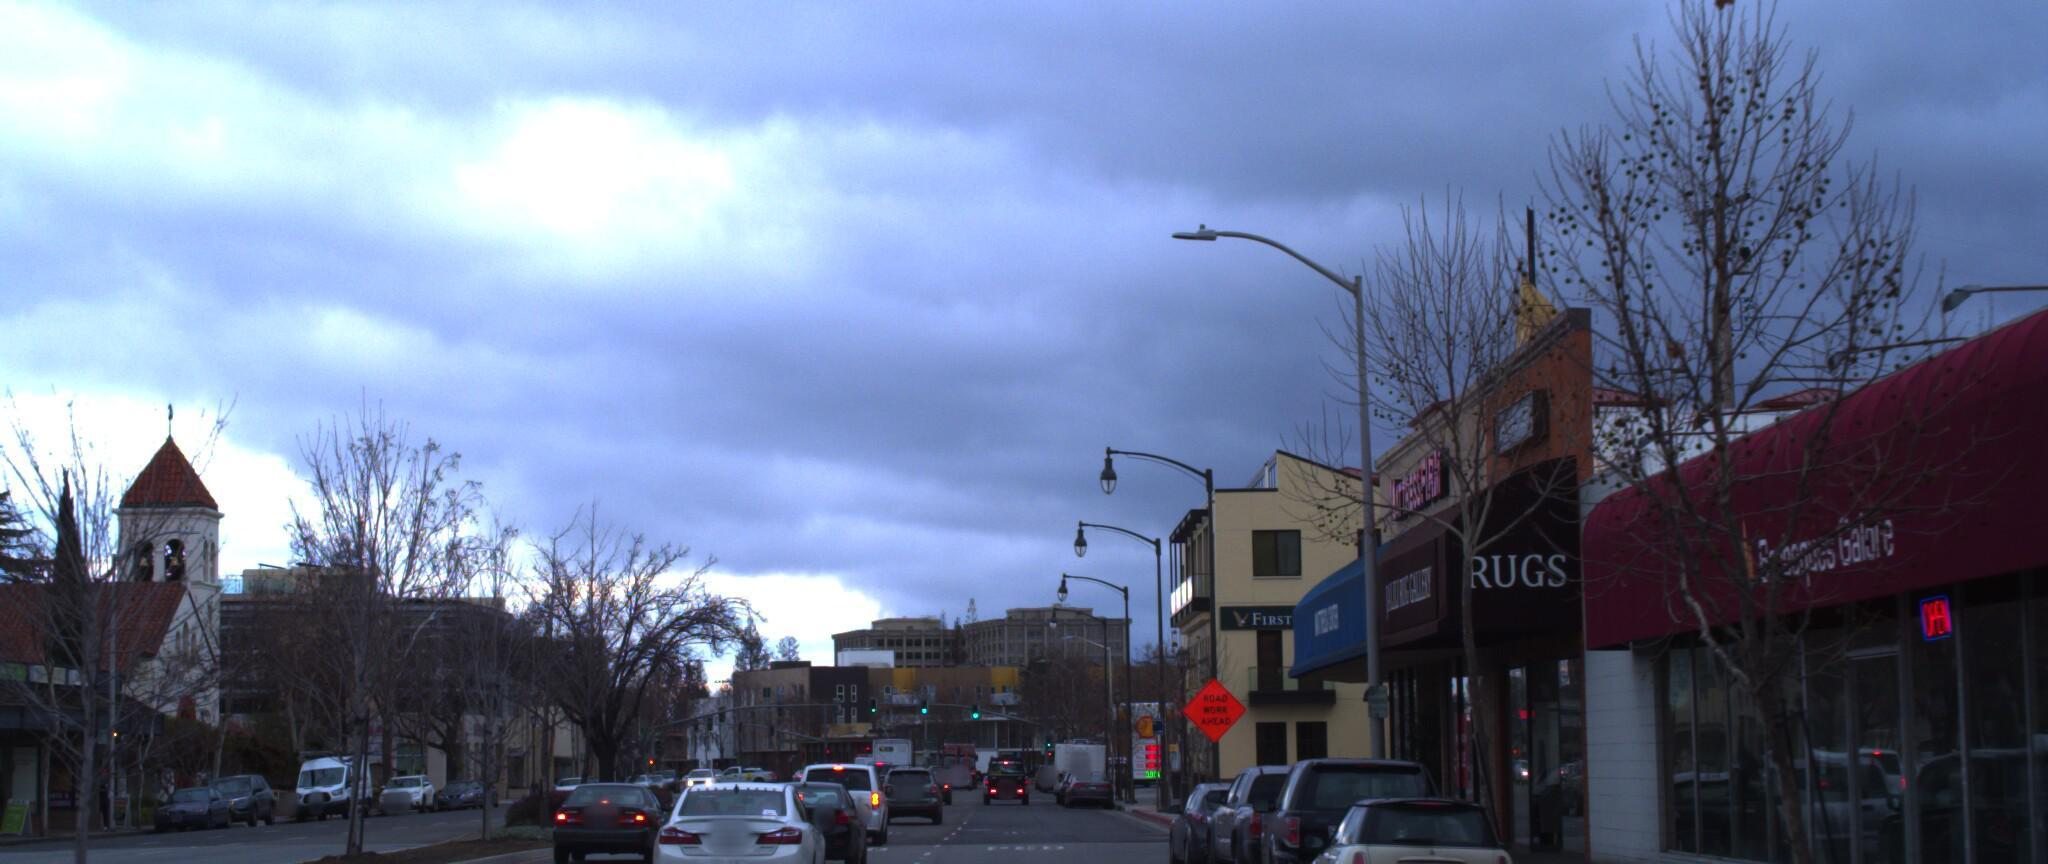car: (1226, 761, 1432, 864), (1272, 788, 1510, 864), (645, 773, 827, 864), (1196, 765, 1364, 864), (1134, 764, 1268, 864), (735, 756, 859, 855), (539, 773, 669, 857), (799, 754, 889, 830), (0, 771, 38, 864)
